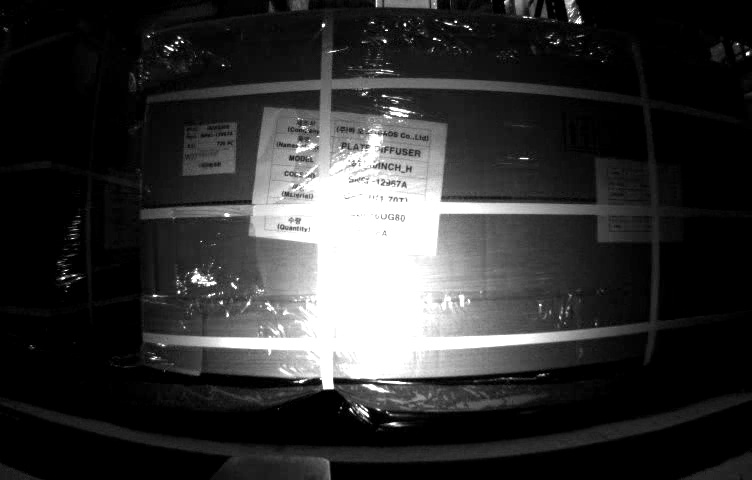True Barcode: (182, 126, 236, 172)
